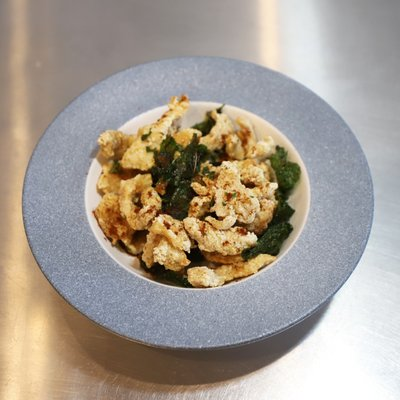curry: (270, 146, 300, 192)
sushi: (70, 85, 318, 294)
